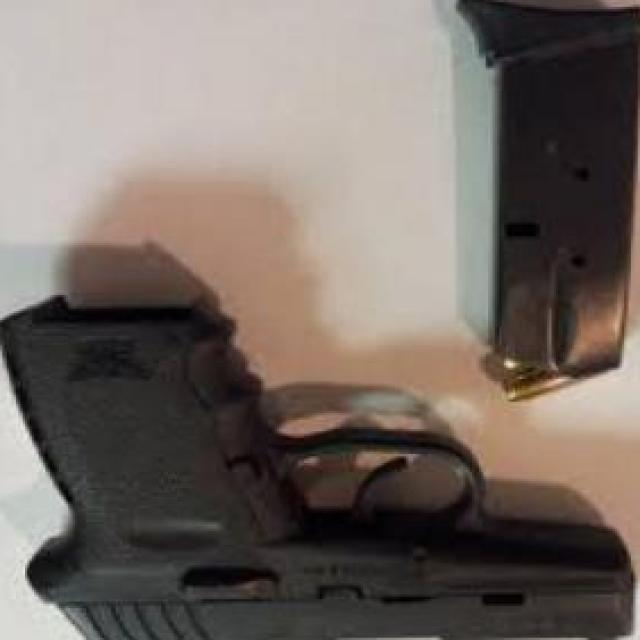pistol: (0, 290, 640, 640)
